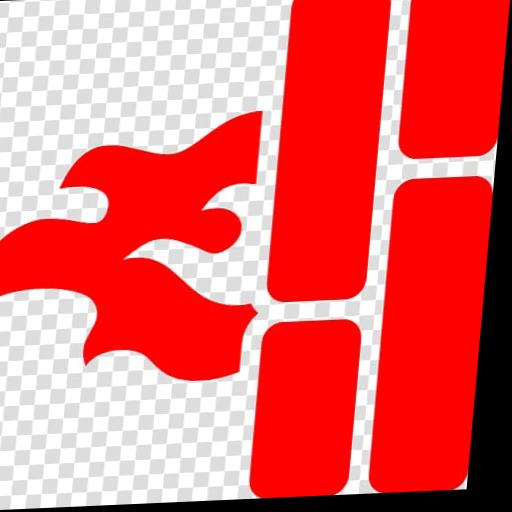Firewall: (0, 0, 512, 512)
